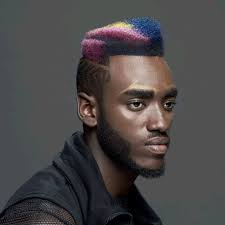black_male: (80, 14, 181, 183)
